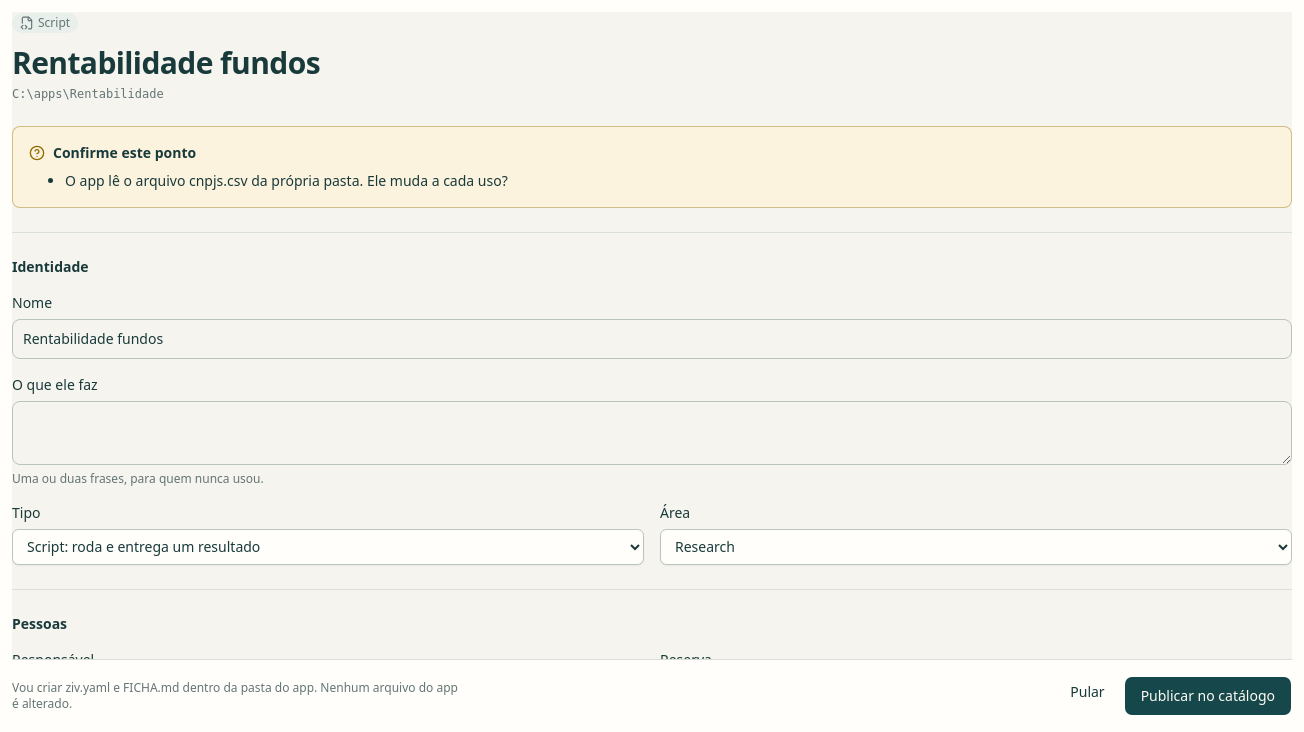
ReviewForm › shows server errors
Click the button "Publicar no catálogo" at (1208, 696), box [1124,676,1292,716]
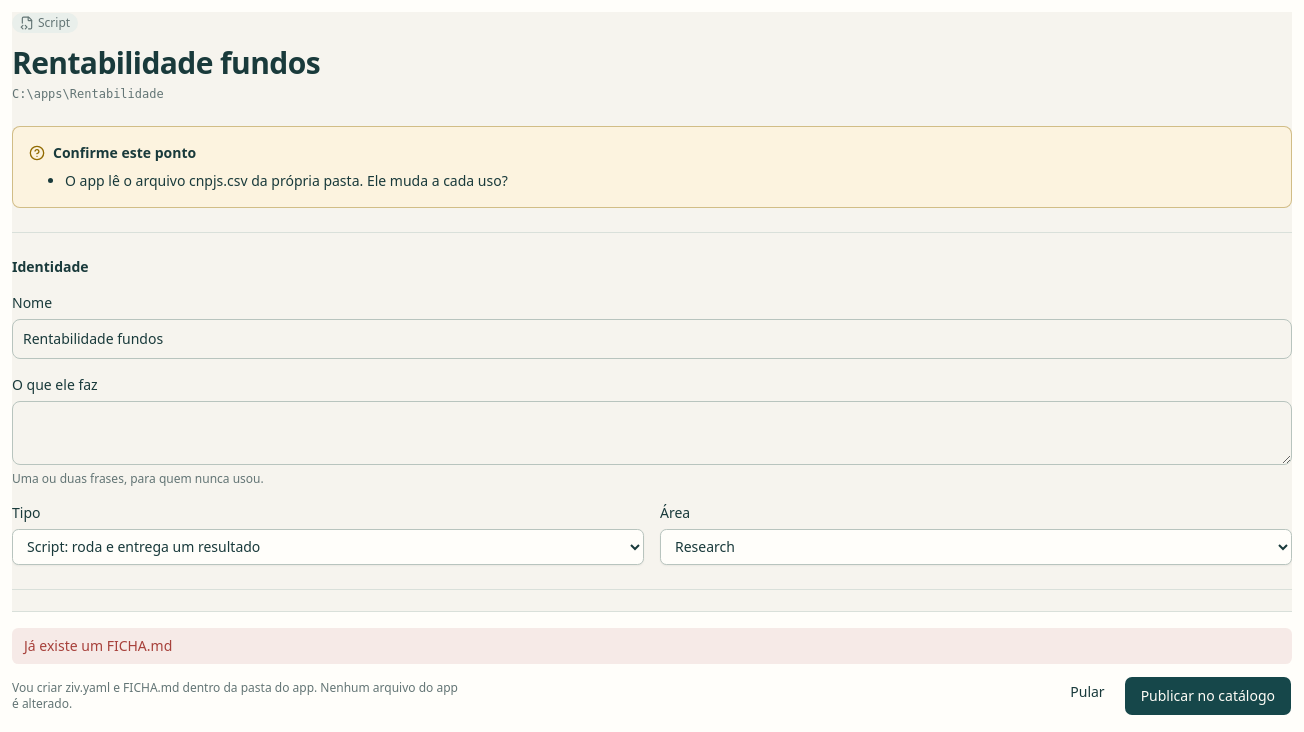
Result: the message reads "Já existe um FICHA.md" at [24,636,172,655]
